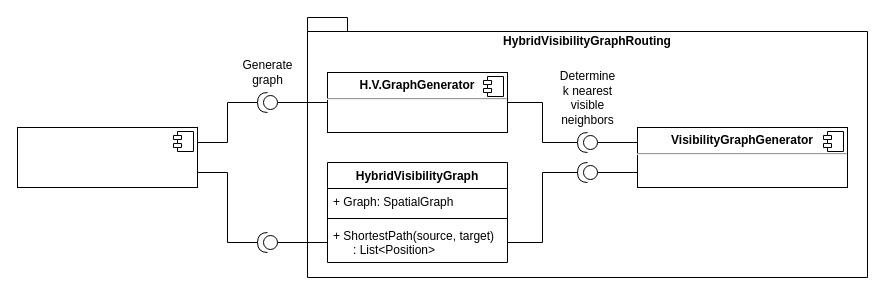
The diagram is 885 pixels wide and 295 high, and some of its shapes have lost their labels. Here are the shapes that lost their labels. From the top down, the centre of each, then its label:
pixel 107 157: Agent + graph: HybrigVisibilityGraph
pixel 587 172: Determine visible neighbors for single vertex
pixel 267 242: Answer routing request
